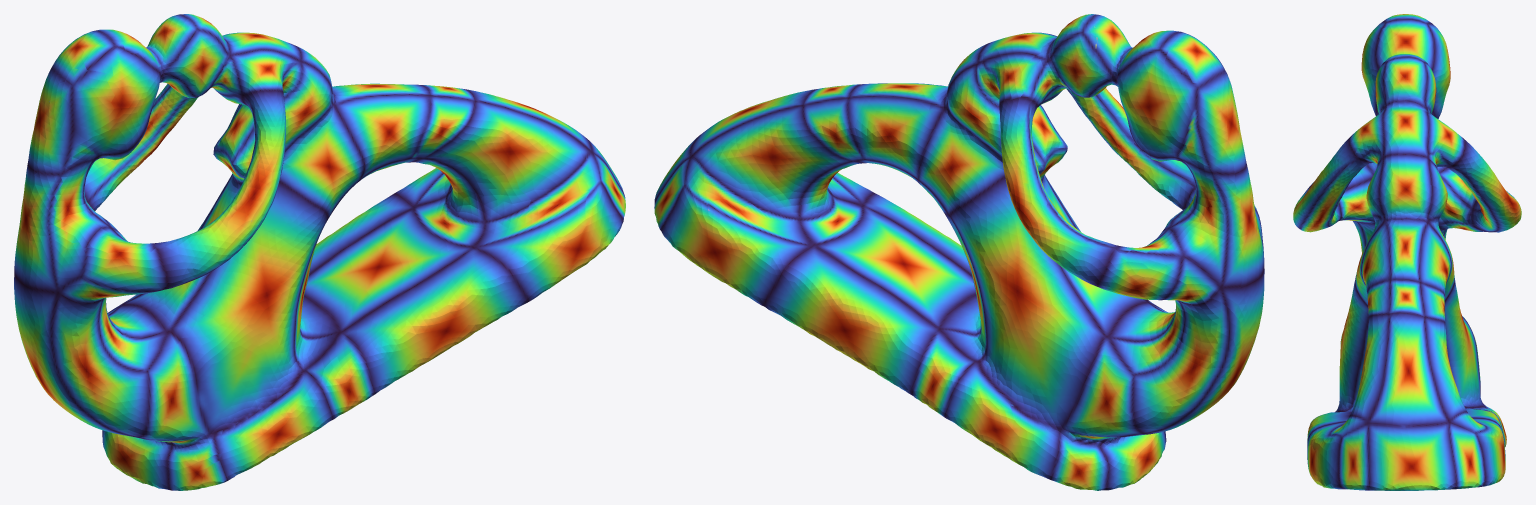
Rendered from gen3.glb.
The picture shows the model from 3 angles, left to right: view 1: azimuth 30°, elevation 25°; view 2: azimuth 150°, elevation 25°; view 3: azimuth 270°, elevation 25°; orthographic projection. The views are drawn at different scales.
Visible parts, largest first — view 1: Node; view 2: Node; view 3: Node.
Boxes of the visible parts, x1,y1,x2,y2 form: Node: (14, 14, 625, 490); Node: (654, 14, 1264, 490); Node: (1293, 14, 1521, 490).
Bounding box in the file's own units: 199 × 144 × 73.25.
1 material, 1 textured.
